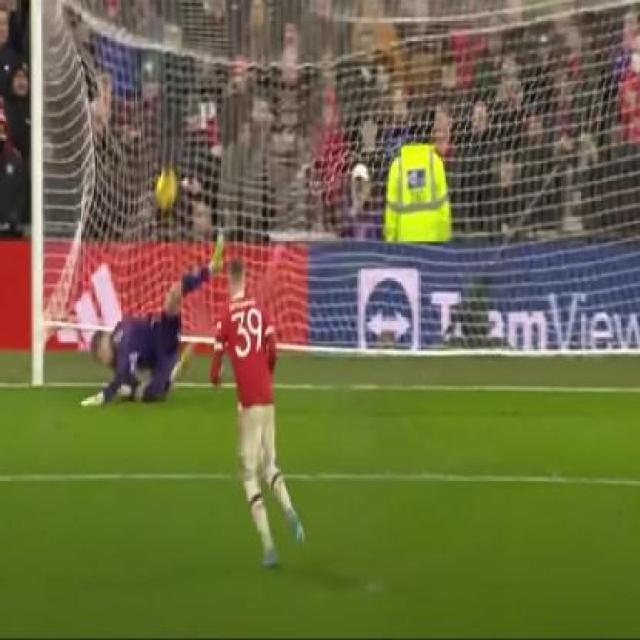ball: (152, 166, 178, 211)
cage: (26, 0, 639, 382)
gardien: (77, 230, 226, 408)
joueur: (206, 255, 306, 568)
